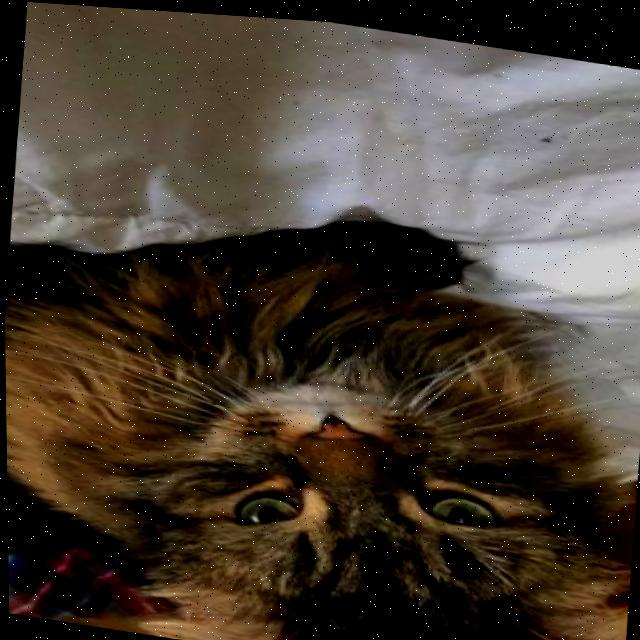Maine Coon: (2, 164, 640, 640)
